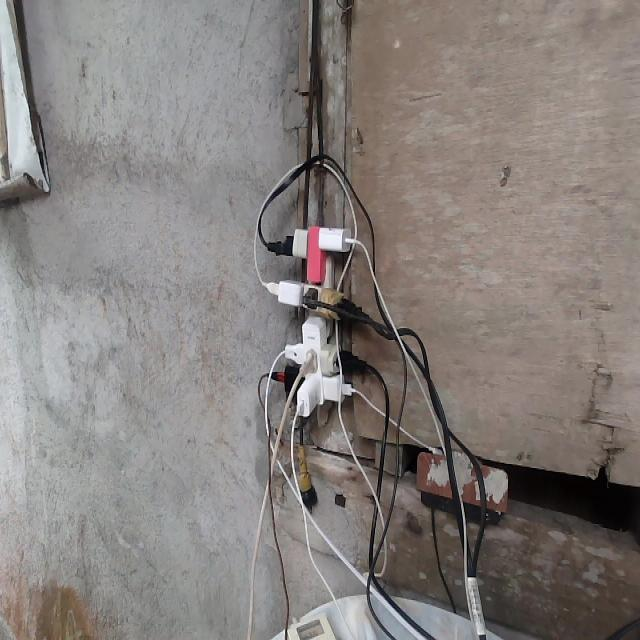-: (262, 222, 362, 426)
